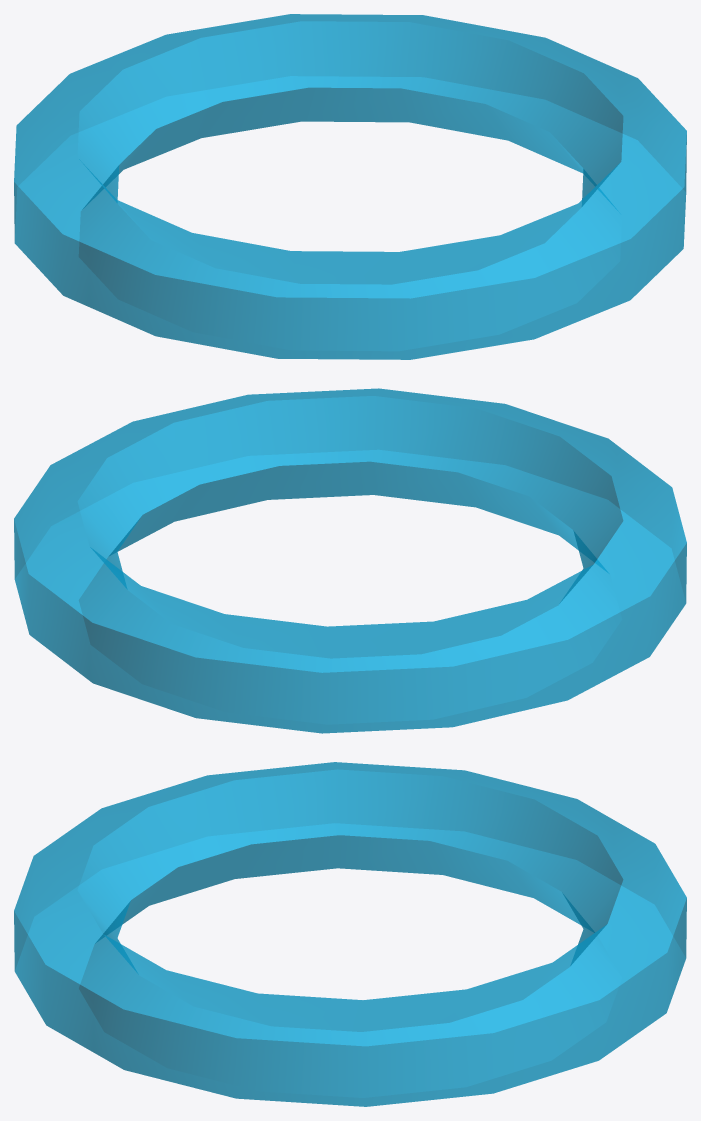
Rendered from FountainOrbOuterRing.fbx.
3 renders of one model, top to bottom at view 1: azimuth 30°, elevation 25°; view 2: azimuth 150°, elevation 25°; view 3: azimuth 270°, elevation 25°, orthographic.
Parts seen in each view (by area): view 1: OuterRingCentrePiece; view 2: OuterRingCentrePiece; view 3: OuterRingCentrePiece.
Part boxes in pixels (<box>): OuterRingCentrePiece: <box>14,14,686,359</box>; OuterRingCentrePiece: <box>14,388,686,733</box>; OuterRingCentrePiece: <box>14,762,686,1106</box>.
Bounding box in the file's own units: 3.05 × 3.05 × 0.4926.
